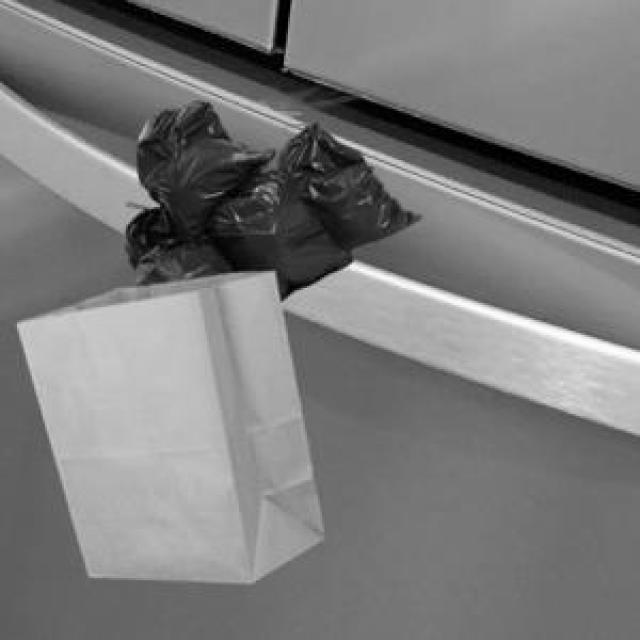miscellaneous trash: (122, 98, 416, 299)
paper: (13, 267, 320, 578)
